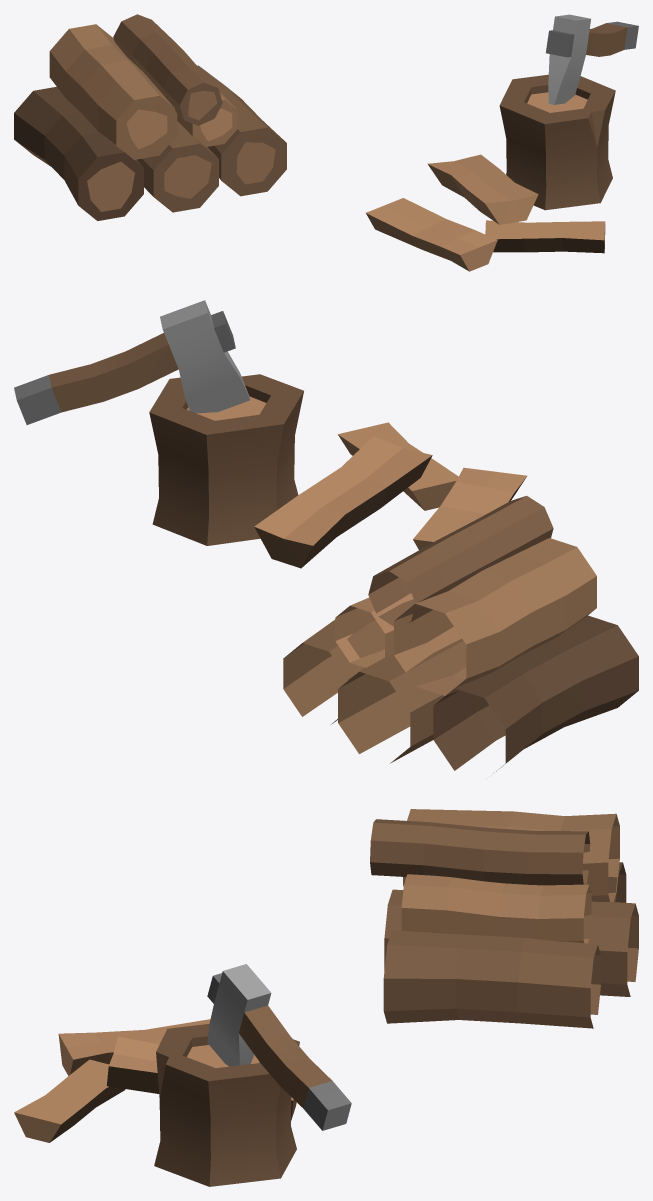
Rendered from Axe.fbx.
The picture shows the model from 3 angles, top to bottom: view 1: azimuth 30°, elevation 25°; view 2: azimuth 150°, elevation 25°; view 3: azimuth 270°, elevation 25°; orthographic projection. The views are drawn at different scales.
Visible parts, largest first — view 1: Plane.001; view 2: Plane.001; view 3: Plane.001.
Part boxes in pixels (bbox=[...]): Plane.001: bbox=[14, 14, 638, 271]; Plane.001: bbox=[14, 300, 638, 772]; Plane.001: bbox=[14, 809, 638, 1186].
Bounding box in the file's own units: 450 × 133 × 380.
